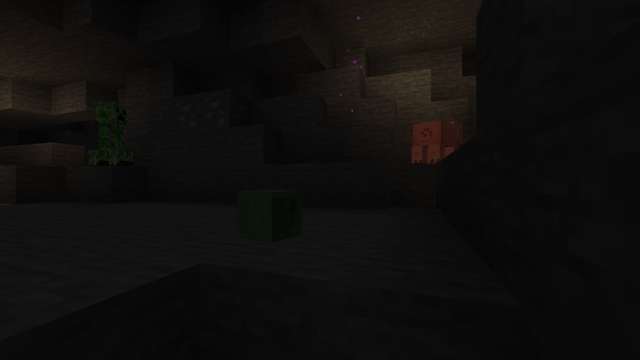cochons: (415, 118, 461, 164)
creepers: (90, 96, 130, 165)
slimes: (235, 188, 300, 242)
